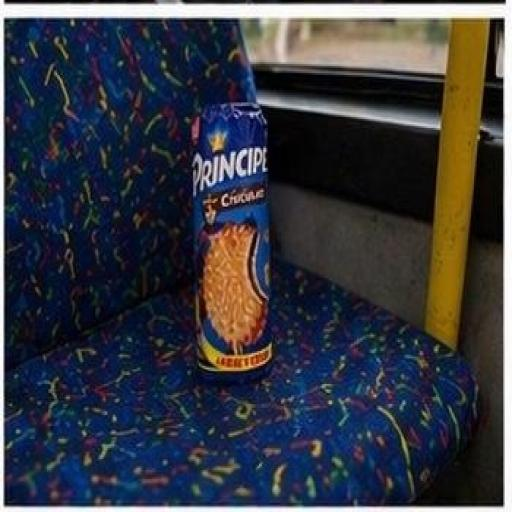prince: (136, 67, 360, 416)
